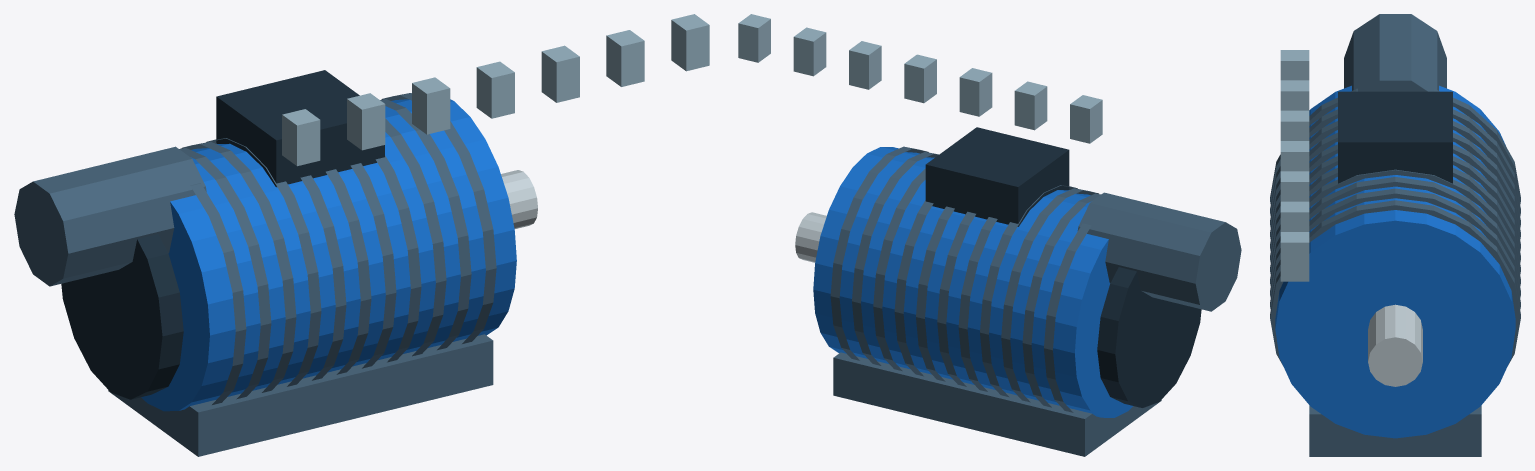
The model's file is 59_L78_VacuumBackingPump.fbx.
3 renders of one model, left to right at view 1: azimuth 30°, elevation 25°; view 2: azimuth 150°, elevation 25°; view 3: azimuth 270°, elevation 25°, orthographic. The views are drawn at different scales.
Visible parts, largest first — view 1: VacuumBackingPump; view 2: VacuumBackingPump; view 3: VacuumBackingPump.
Boxes of the visible parts, x1,y1,x2,y2 form: VacuumBackingPump: (14,14,709,456); VacuumBackingPump: (738,14,1241,456); VacuumBackingPump: (1270,14,1520,456).
Size of the model in its own units: 234 by 119 by 87.36.
